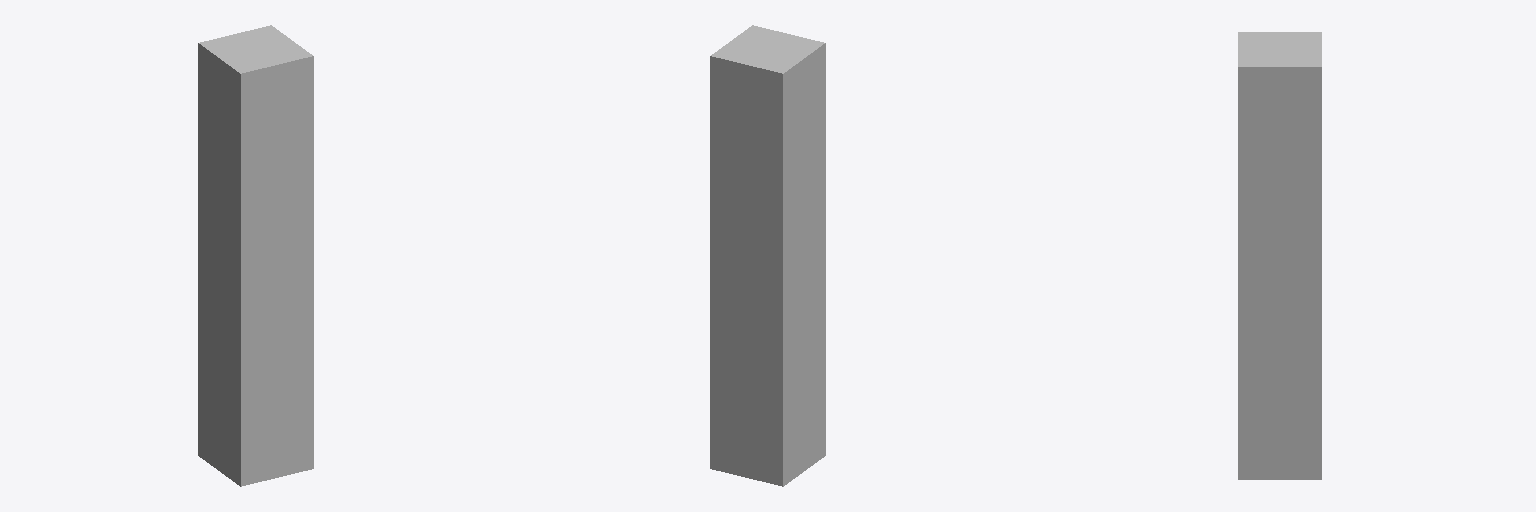
File: line_brown.obj
The picture shows the model from 3 angles: view 1: azimuth 30°, elevation 25°; view 2: azimuth 150°, elevation 25°; view 3: azimuth 270°, elevation 25°; orthographic projection.
Parts seen in each view (by area): view 1: Body1; view 2: Body1; view 3: Body1.
Part boxes in pixels (left/top/right/bottom): Body1: left=198, top=25, right=313, bottom=486; Body1: left=710, top=25, right=825, bottom=486; Body1: left=1238, top=32, right=1321, bottom=479.
Size of the model in its own units: 2.59 by 14 by 2.59.